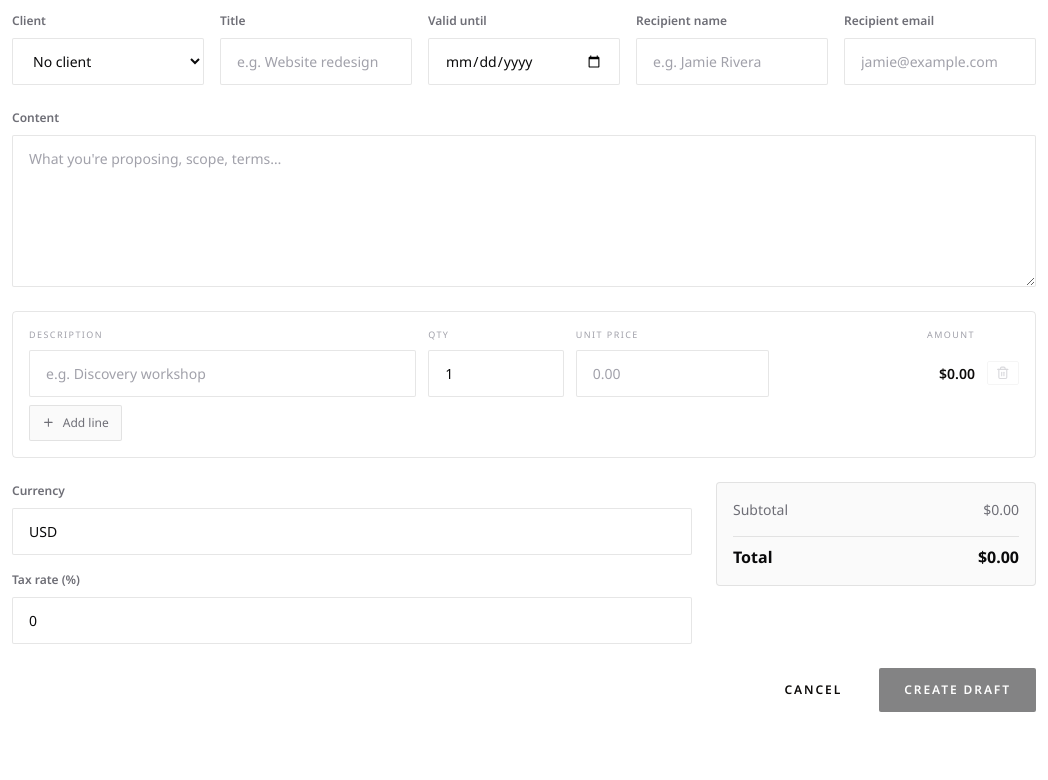
it: ProposalForm › auto-fills recipient name/email from the selected client's contact info
The width and height of the screenshot is (1048, 780).
Select "Acme Co" in the dropdown labelled "Client". click: (108, 62)
box: [12, 38, 204, 85]
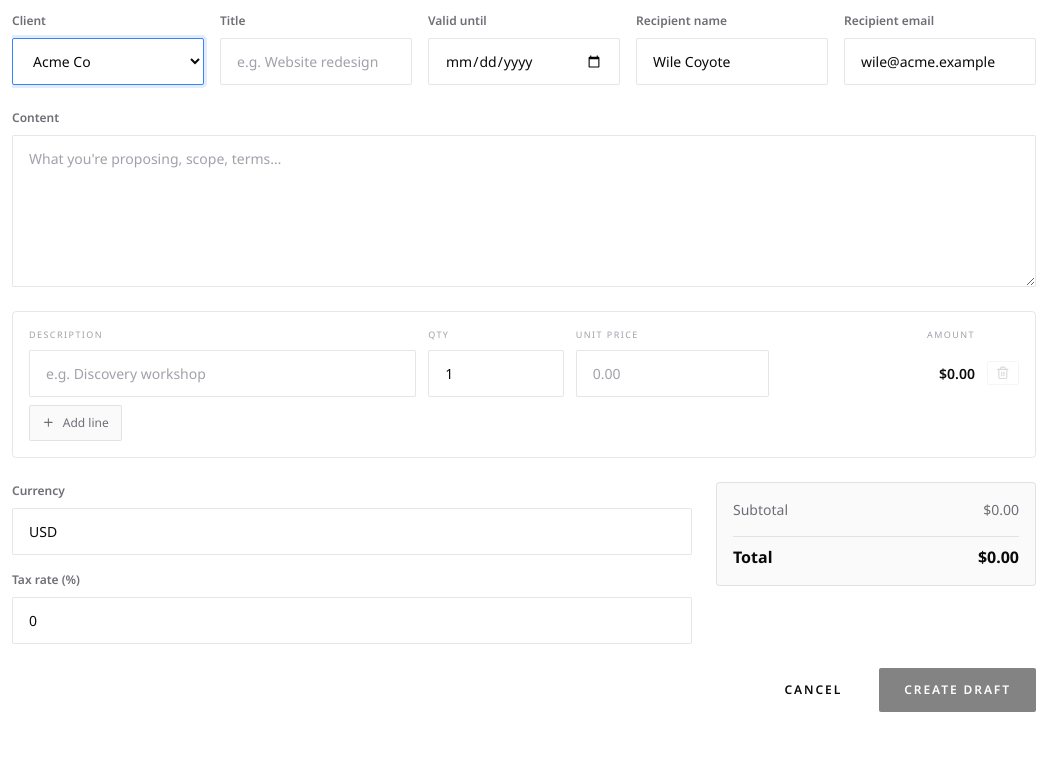
Check: the field labelled "Recipient name" holds "Wile Coyote", box [636, 38, 828, 85]
Check: the field labelled "Recipient email" holds "wile@acme.example", box [844, 38, 1036, 85]
